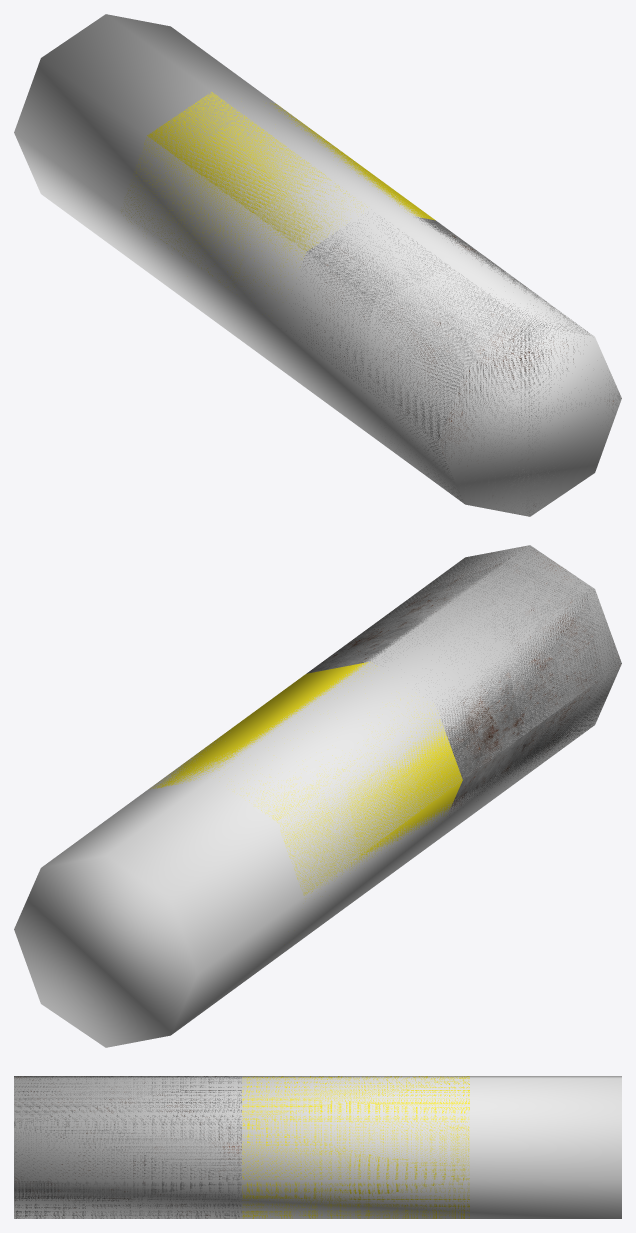
File: torch-light.dae
The picture shows the model from 3 angles, top to bottom: view 1: azimuth 30°, elevation 25°; view 2: azimuth 150°, elevation 25°; view 3: azimuth 270°, elevation 25°; orthographic projection. The views are drawn at different scales.
Parts seen in each view (by area): view 1: Cylinder, pos-z, neg-x, neg-y; view 2: Cylinder, neg-x, pos-z; view 3: Cylinder, pos-x, pos-z.
Boxes of the visible parts, x1,y1,x2,y2 form: Cylinder: (14, 14, 621, 516); pos-z: (147, 92, 590, 368); neg-x: (121, 137, 464, 503); neg-y: (439, 324, 621, 516); Cylinder: (14, 545, 621, 1047); neg-x: (277, 590, 621, 895); pos-z: (150, 545, 593, 820); Cylinder: (14, 1076, 621, 1218); pos-x: (14, 1121, 469, 1218); pos-z: (14, 1076, 469, 1121).
Bounding box in the file's own units: 0.2 × 0.8 × 0.2.
